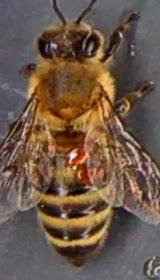varroa_mite: (64, 162, 106, 186), (67, 141, 93, 164)
